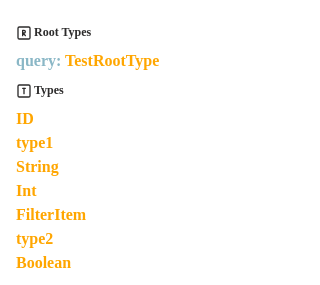
Scenario: Documentation › renders navigation link in type view
Click the link "type1" at (35, 142), box [16,134,53,151]
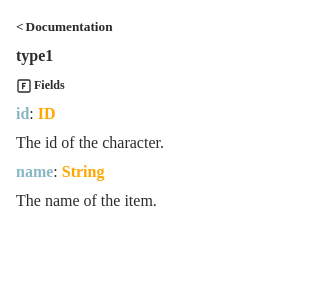
Now the link with test id "documentation-navlink" is shown, box [16,15,112,39]
